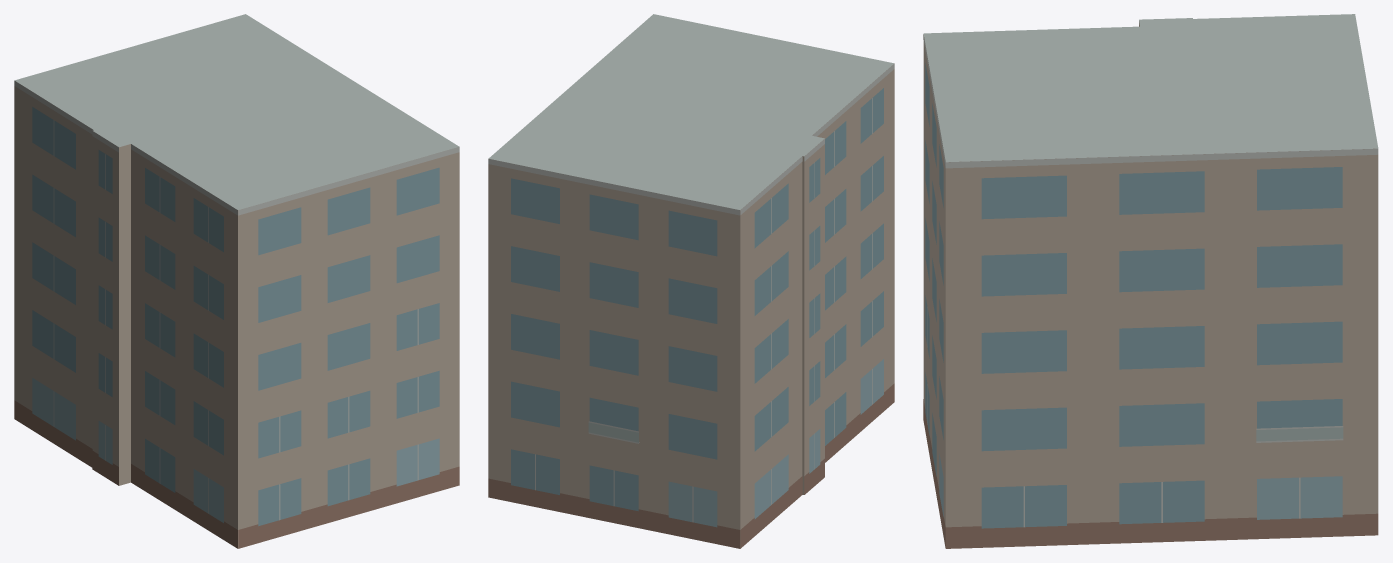
Rendered from survey-upis-33005426.glb.
3 renders of one model, left to right at view 1: azimuth 30°, elevation 25°; view 2: azimuth 150°, elevation 25°; view 3: azimuth 270°, elevation 25°, orthographic. The views are drawn at different scales.
Visible parts, largest first — view 1: survey-upis-33005426.tmp; view 2: survey-upis-33005426.tmp; view 3: survey-upis-33005426.tmp.
Part boxes in pixels (x1,y1,x2,y2): survey-upis-33005426.tmp: (14,14,459,548); survey-upis-33005426.tmp: (488,14,894,548); survey-upis-33005426.tmp: (923,14,1378,548).
Bounding box in the file's own units: 12.59 × 15.3 × 16.32.
